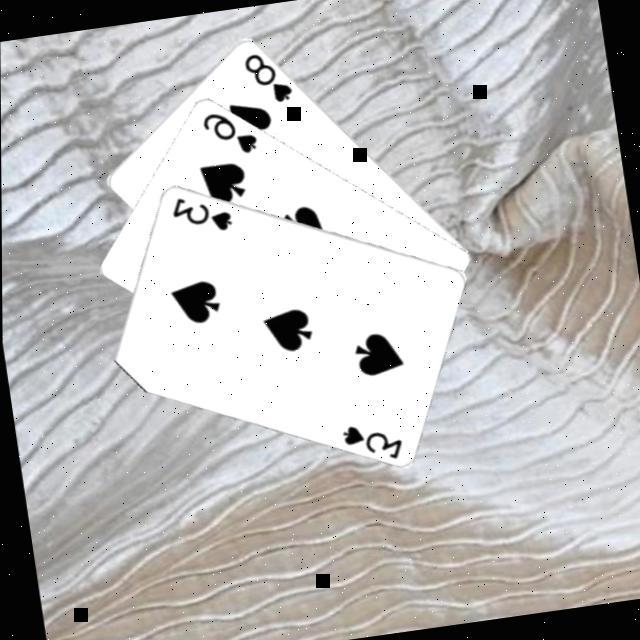3S: (168, 186, 238, 238), (338, 414, 408, 466)
6S: (199, 102, 264, 161)
8S: (241, 44, 299, 108)
